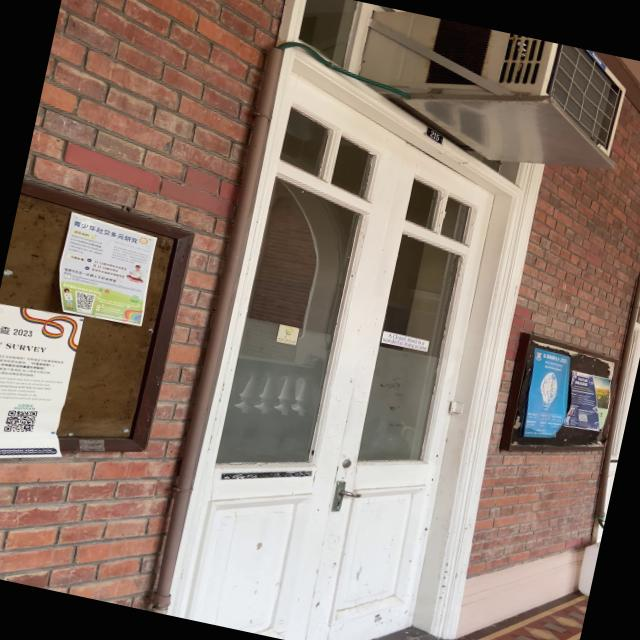room215: (423, 126, 445, 146)
